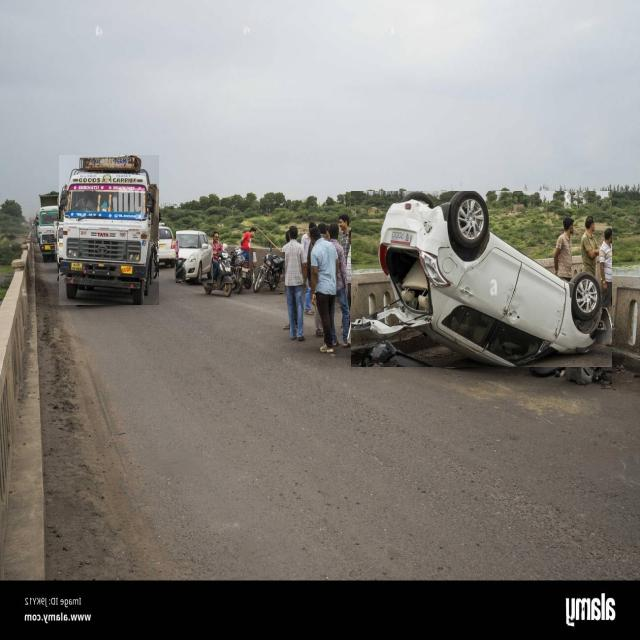accident: (351, 192, 611, 367)
car: (176, 231, 212, 283)
motorcycle: (201, 231, 232, 297), (253, 253, 284, 293)
truck: (59, 156, 159, 305)
